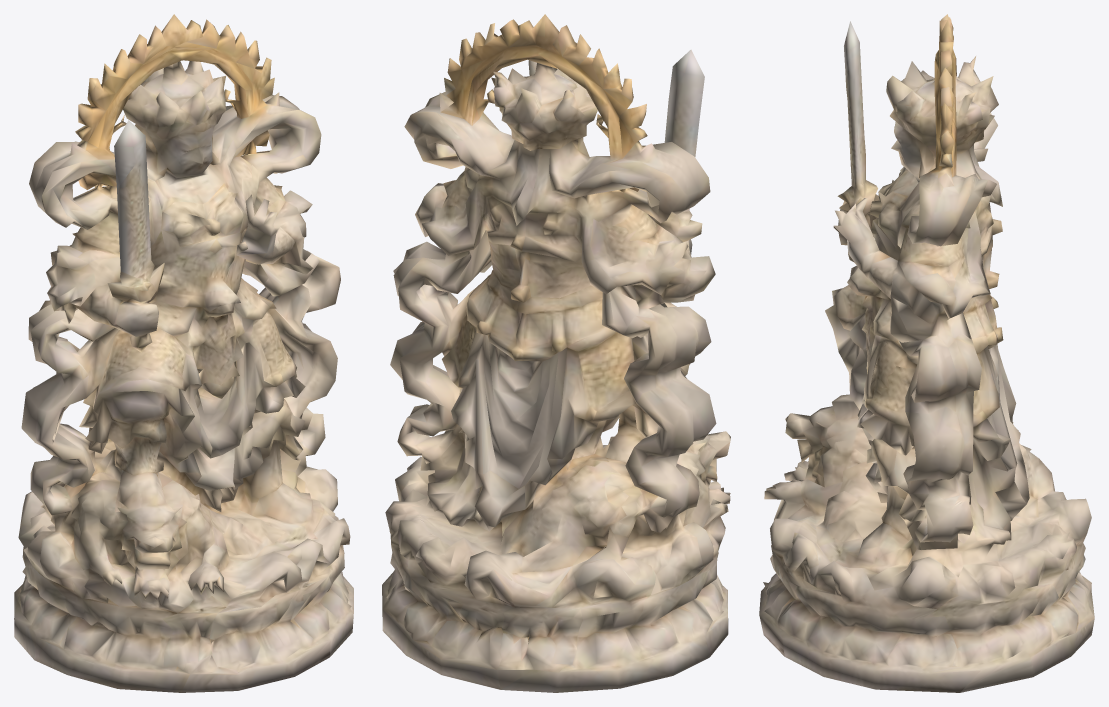
File: far.glb
3 renders of one model, left to right at view 1: azimuth 30°, elevation 25°; view 2: azimuth 150°, elevation 25°; view 3: azimuth 270°, elevation 25°, orthographic. The views are drawn at different scales.
Visible parts, largest first — view 1: four-heavenly-kings-02; view 2: four-heavenly-kings-02; view 3: four-heavenly-kings-02.
Boxes of the visible parts, x1,y1,x2,y2 form: four-heavenly-kings-02: [14, 14, 353, 692]; four-heavenly-kings-02: [382, 14, 730, 692]; four-heavenly-kings-02: [759, 14, 1094, 692].
Size of the model in its own units: 0.5276 by 0.9991 by 0.5049.
1 material, 1 textured.
